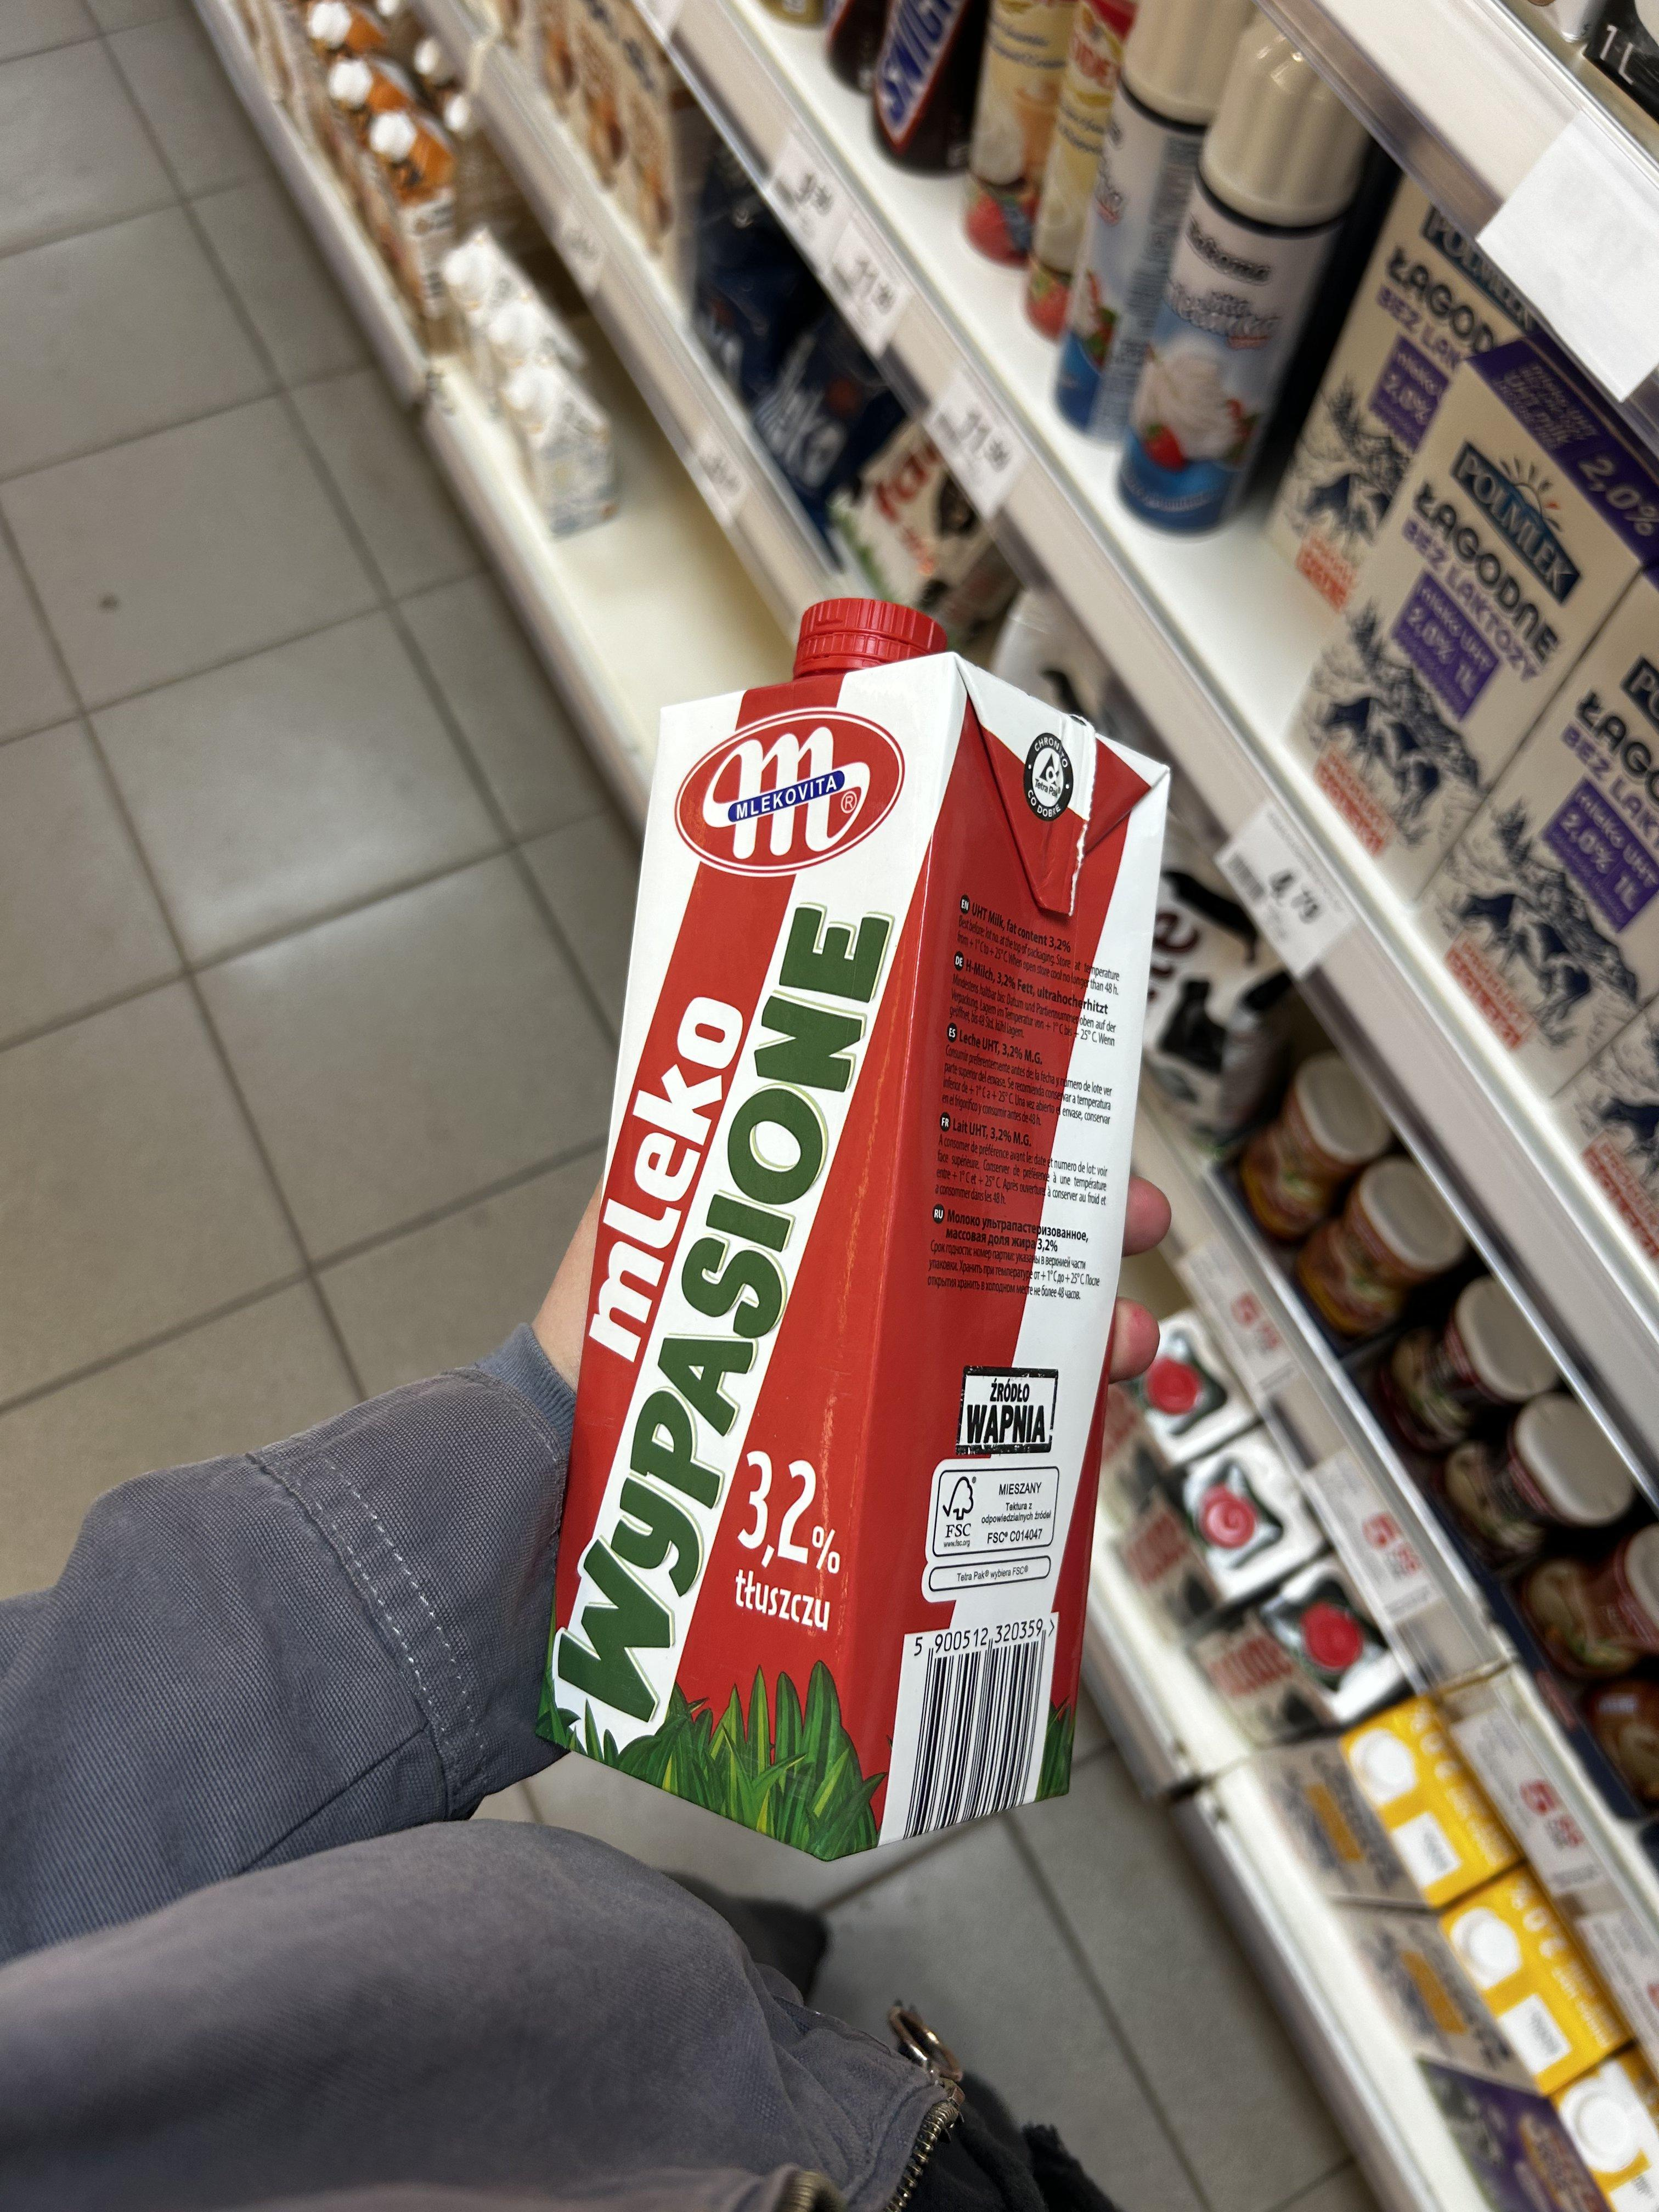Milk: (526, 556, 1175, 1895)
